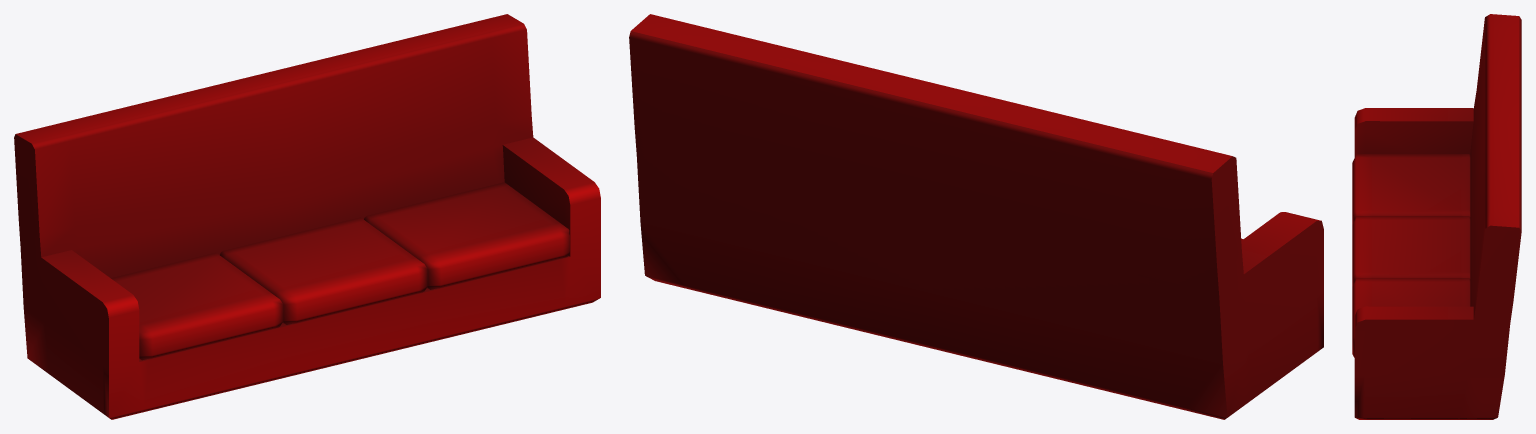
Rendered from PlainSofa002.glb.
The picture shows the model from 3 angles, left to right: view 1: azimuth 30°, elevation 25°; view 2: azimuth 150°, elevation 25°; view 3: azimuth 270°, elevation 25°; orthographic projection. The views are drawn at different scales.
Visible parts, largest first — view 1: PlainSofa002; view 2: PlainSofa002; view 3: PlainSofa002.
Part boxes in pixels (x1,y1,x2,y2): PlainSofa002: (14,14,600,419); PlainSofa002: (629,14,1323,419); PlainSofa002: (1352,14,1521,419).
Size of the model in its own units: 9.69 by 4.2 by 3.28.
